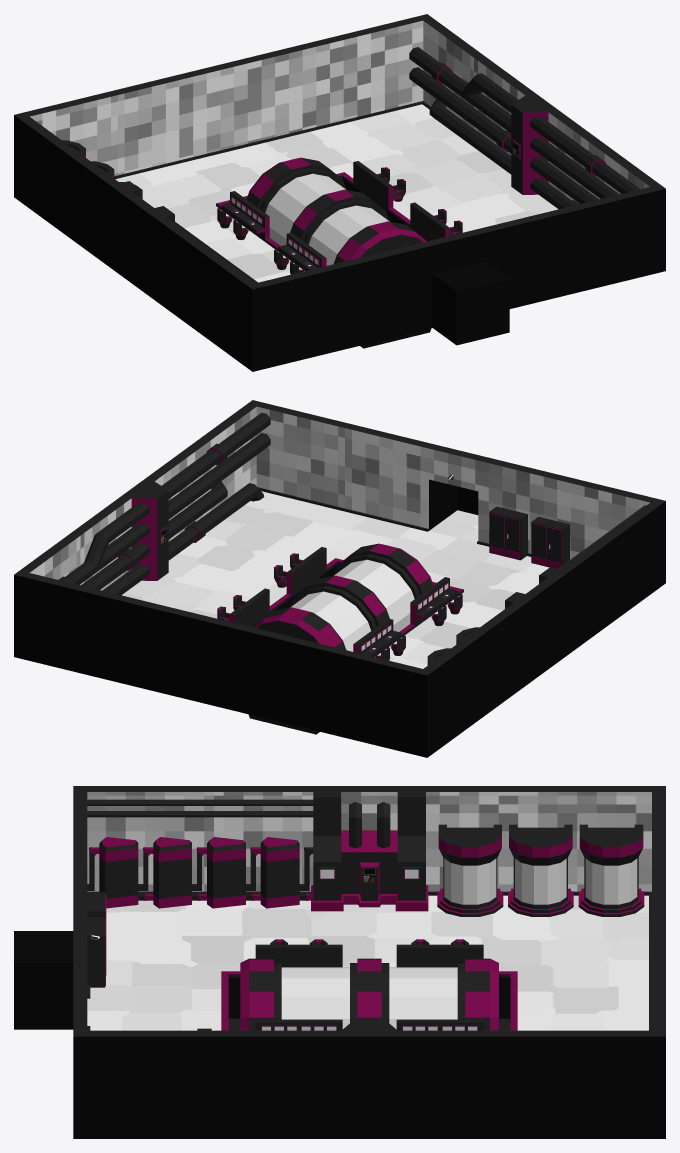
The model's file is Life_Support_1x1x1.fbx.
3 views of the same model, one above another, from view 1: azimuth 30°, elevation 25°; view 2: azimuth 150°, elevation 25°; view 3: azimuth 270°, elevation 25° (orthographic). The views are drawn at different scales.
Parts seen in each view (by area): view 1: Life_Support_1x1x1; view 2: Life_Support_1x1x1; view 3: Life_Support_1x1x1.
Boxes of the visible parts, bbox=[...] form: Life_Support_1x1x1: bbox=[14, 14, 665, 371]; Life_Support_1x1x1: bbox=[14, 400, 665, 757]; Life_Support_1x1x1: bbox=[14, 786, 665, 1138].
Bounding box in the file's own units: 42 × 46.2 × 14.29.
